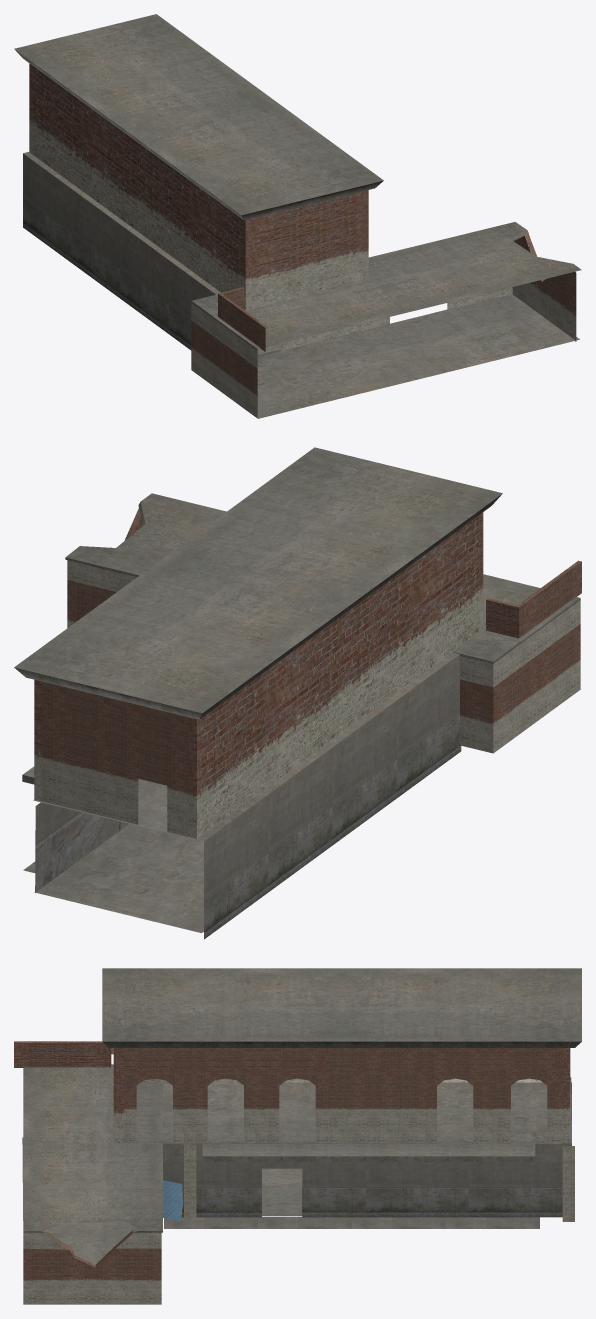
Rendered from Building_HeiygcFz04_2048_lod2.glb.
3 renders of one model, top to bottom at view 1: azimuth 30°, elevation 25°; view 2: azimuth 150°, elevation 25°; view 3: azimuth 270°, elevation 25°, orthographic. The views are drawn at different scales.
Parts seen in each view (by area): view 1: xiutz_heiygc_fz_04_lod2; view 2: xiutz_heiygc_fz_04_lod2; view 3: xiutz_heiygc_fz_04_lod2.
Boxes of the visible parts, <box> form: xiutz_heiygc_fz_04_lod2: <box>14,14,581,418</box>; xiutz_heiygc_fz_04_lod2: <box>14,447,581,939</box>; xiutz_heiygc_fz_04_lod2: <box>14,968,581,1304</box>.
Size of the model in its own units: 26.58 by 13.73 by 38.14.
Materials: 1 (1 with a texture image).
